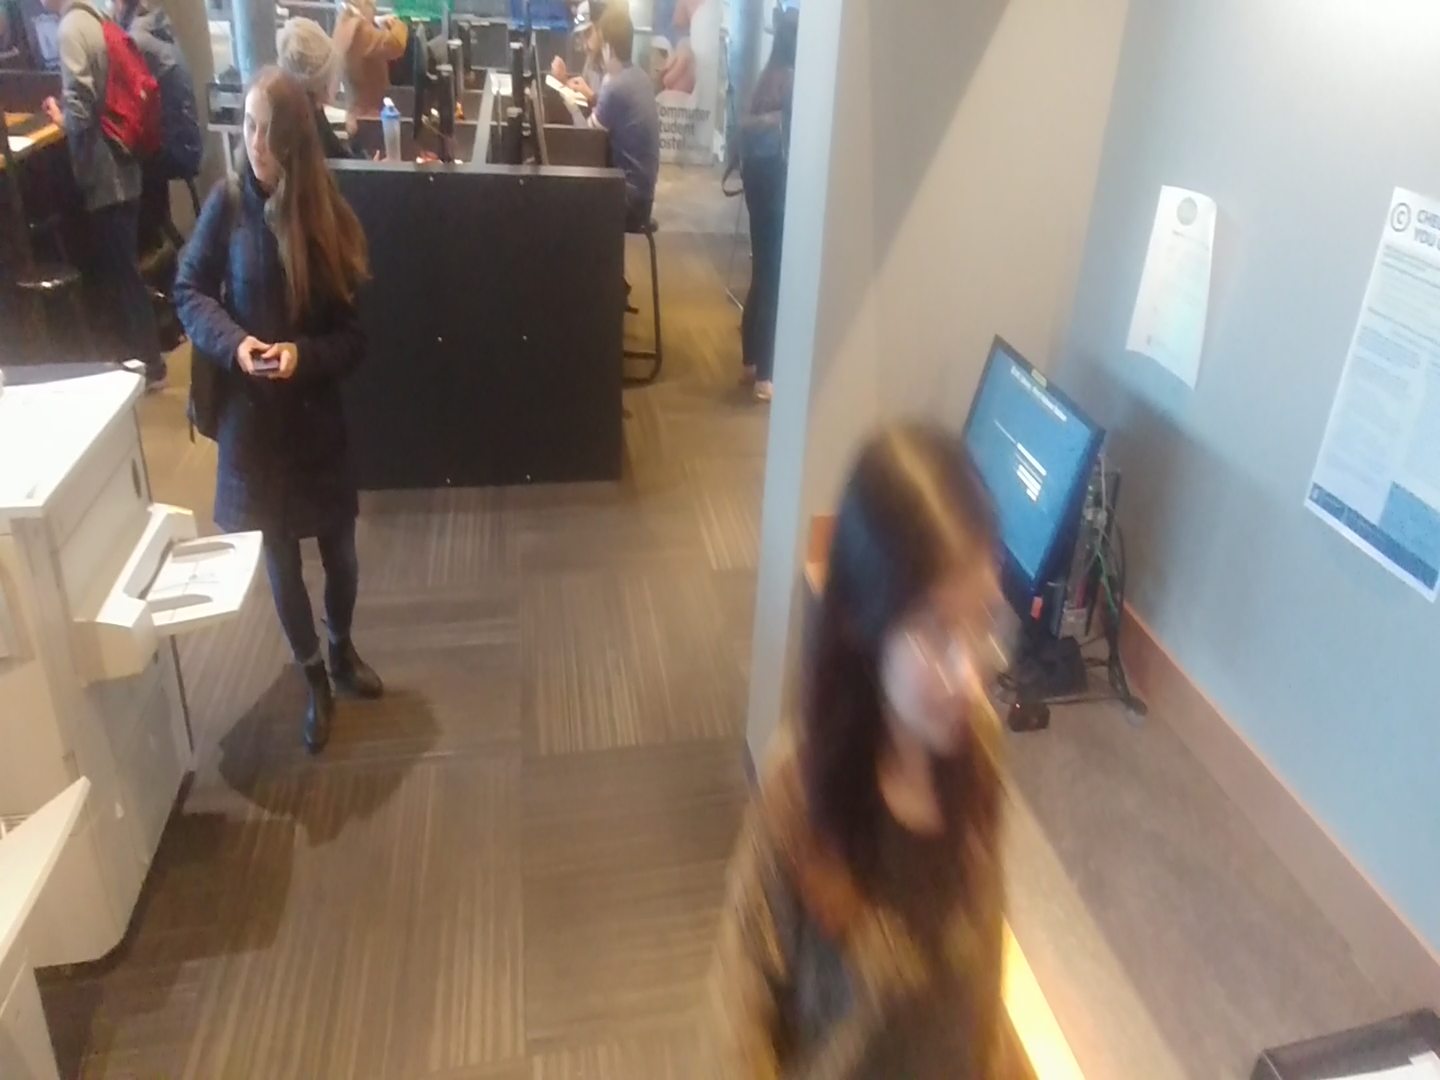face: (792, 400, 1019, 865), (225, 58, 334, 223), (560, 2, 609, 71), (601, 6, 640, 80)
human: (687, 399, 1045, 1080), (33, 0, 165, 392), (721, 1, 805, 419), (593, 7, 669, 241)
